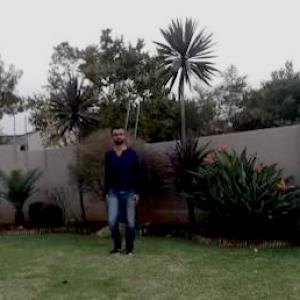follow: (104, 120, 144, 258)
